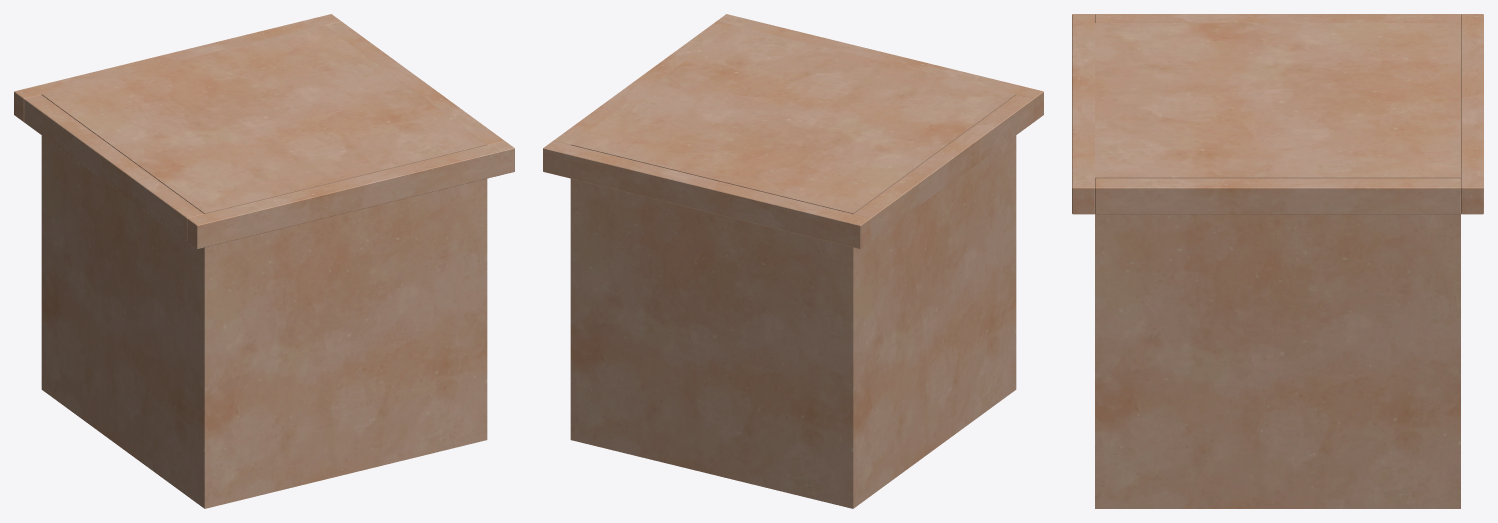
The picture shows the model from 3 angles, left to right: view 1: azimuth 30°, elevation 25°; view 2: azimuth 150°, elevation 25°; view 3: azimuth 270°, elevation 25°; orthographic projection. The views are drawn at different scales.
Visible parts, largest first — view 1: SM_BB_T4_Foundation_Large_03_LOD0; view 2: SM_BB_T4_Foundation_Large_03_LOD0; view 3: SM_BB_T4_Foundation_Large_03_LOD0.
Boxes of the visible parts, <box> form: SM_BB_T4_Foundation_Large_03_LOD0: <box>14,14,514,508</box>; SM_BB_T4_Foundation_Large_03_LOD0: <box>543,14,1043,508</box>; SM_BB_T4_Foundation_Large_03_LOD0: <box>1072,14,1483,508</box>.
Bounding box in the file's own units: 3.38 × 3 × 3.38.
Materials: 1 (1 with a texture image).
